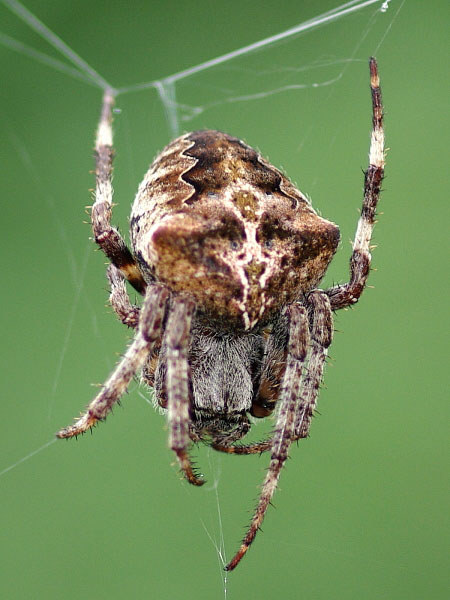spider: (27, 39, 396, 581)
